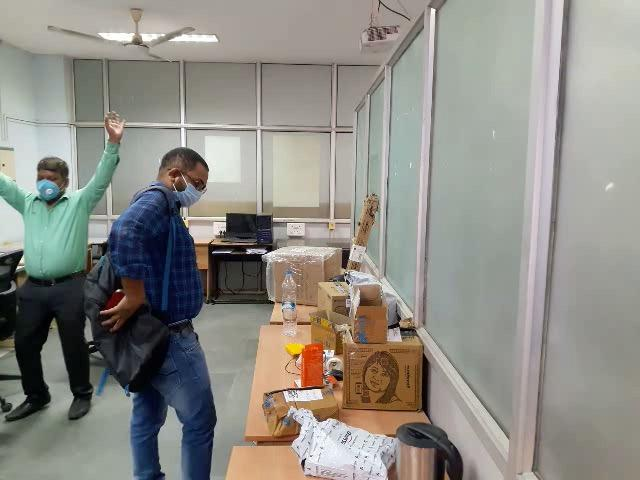shoplifting: (44, 227, 204, 454)
